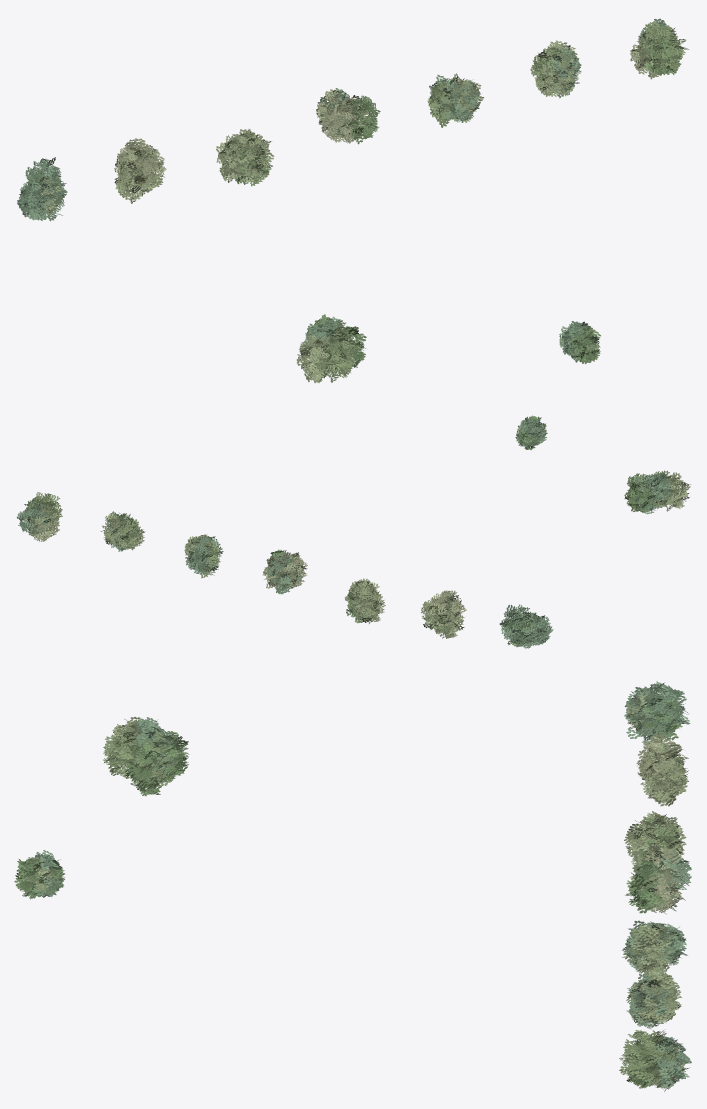
Rendered from campus-tree--3_-4-near.glb.
3 views of the same model, one above another, from view 1: azimuth 30°, elevation 25°; view 2: azimuth 150°, elevation 25°; view 3: azimuth 270°, elevation 25° (orthographic). The views are drawn at different scales.
Parts seen in each view (by area): view 1: Campus leaf canopy; view 2: Campus leaf canopy; view 3: Campus leaf canopy.
Boxes of the visible parts, bbox=[...] form: Campus leaf canopy: bbox=[17, 18, 689, 383]; Campus leaf canopy: bbox=[17, 415, 690, 648]; Campus leaf canopy: bbox=[14, 681, 691, 1091].
Size of the model in its own units: 72.81 by 7.83 by 56.67.
1 material, 1 textured.
